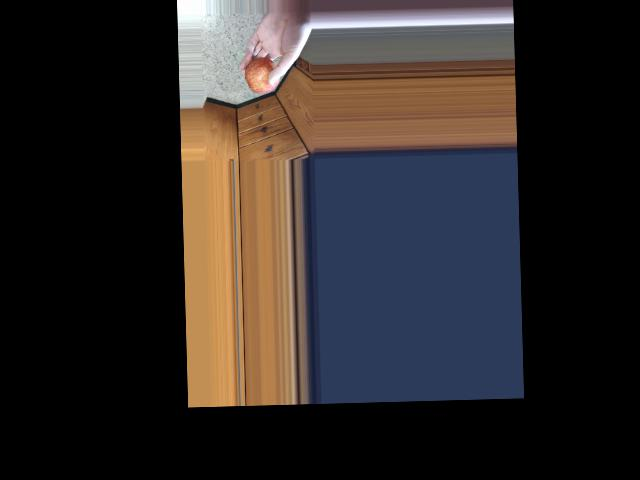apple: (242, 50, 285, 98)
